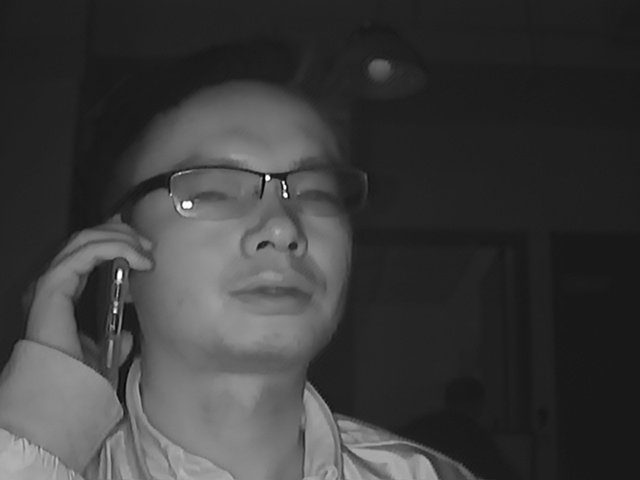hand: (35, 219, 153, 373)
